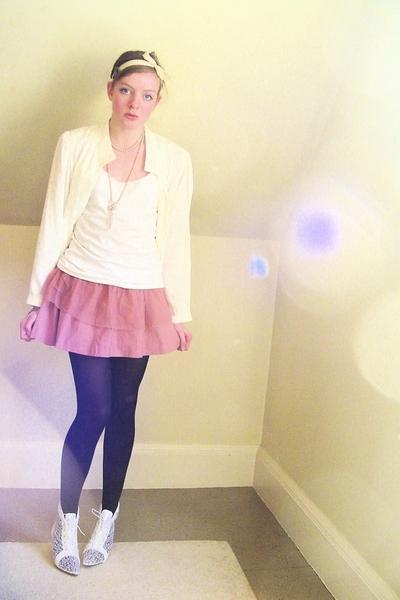shirt: (27, 126, 192, 322)
shoe: (46, 543, 103, 576)
skirt: (20, 264, 192, 357)
